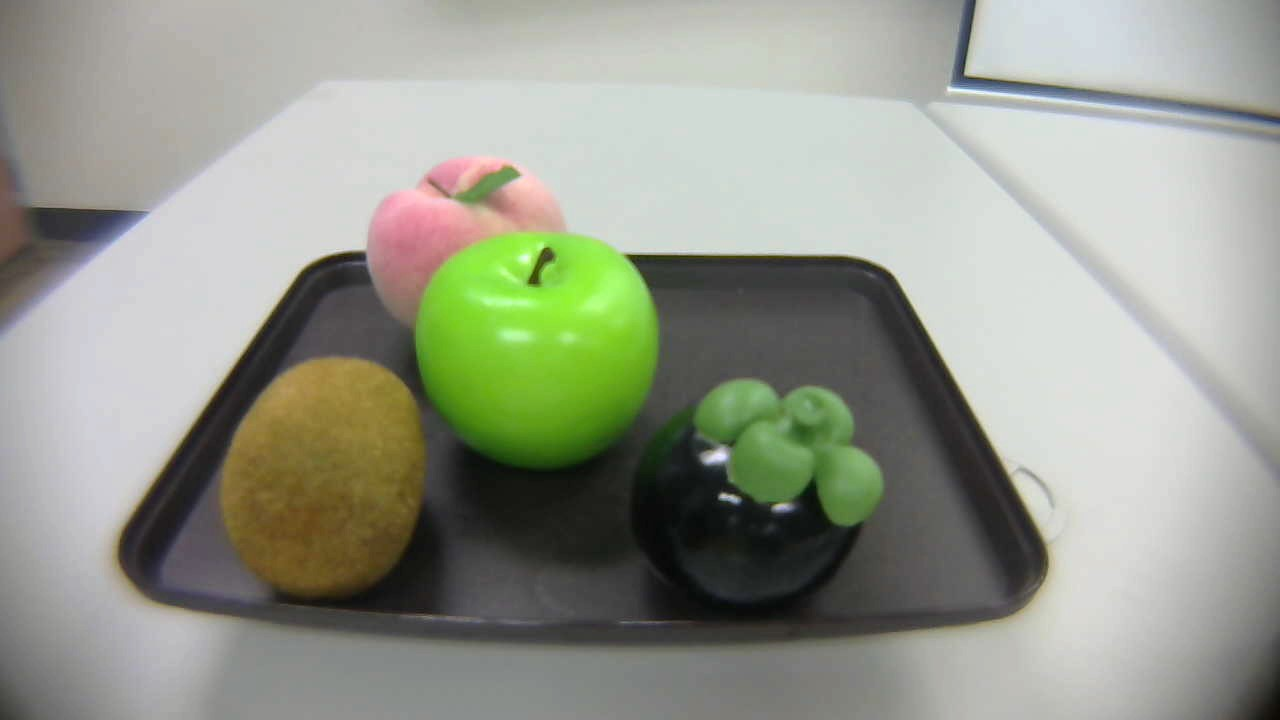green apple: (407, 226, 663, 488)
kiwi fruit: (209, 352, 429, 609)
mangosteen: (629, 375, 886, 622)
peach: (350, 149, 577, 324)
